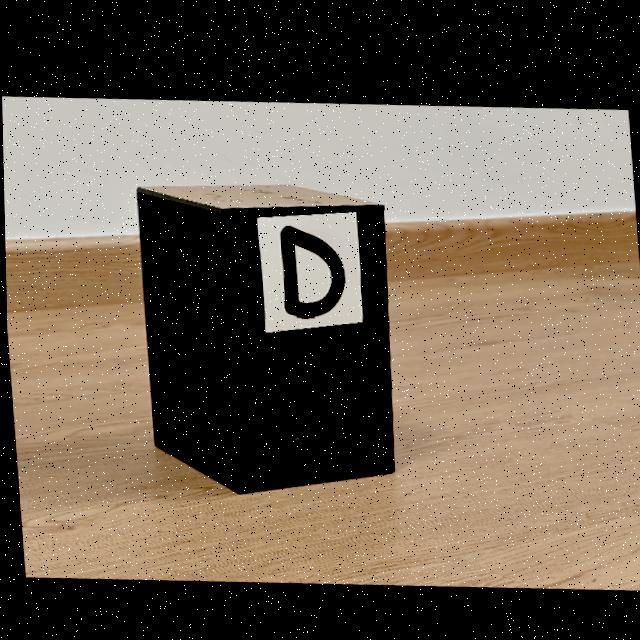D: (280, 222, 343, 313)
